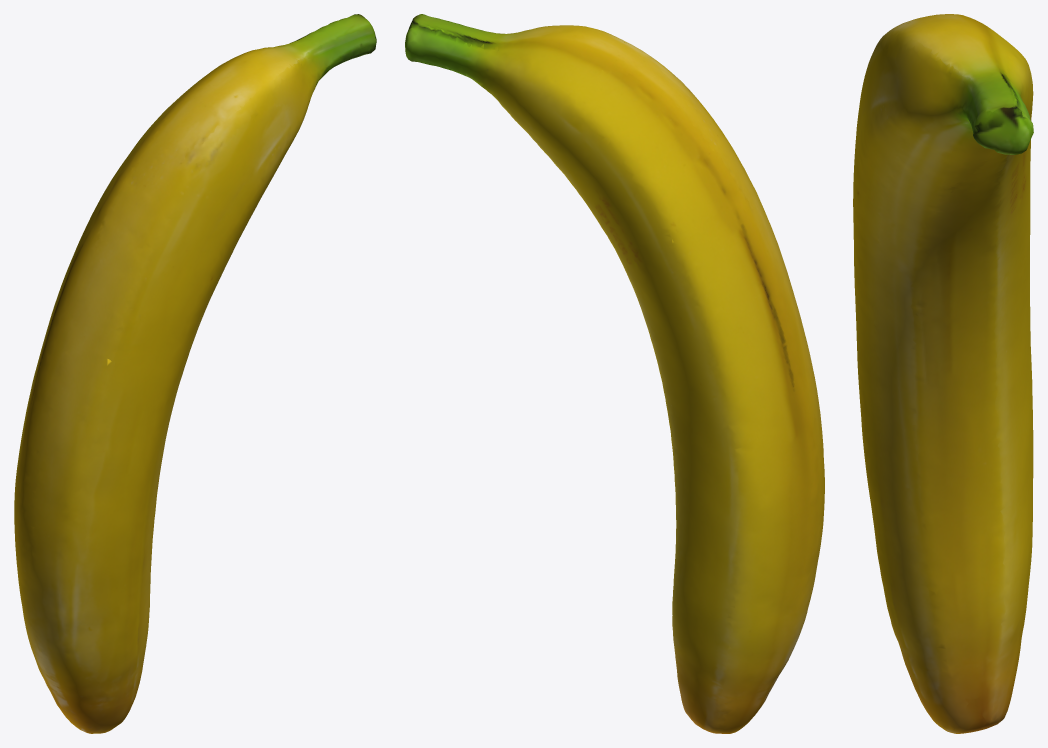
File: Banana.glb
3 views of the same model, side by side, from view 1: azimuth 30°, elevation 25°; view 2: azimuth 150°, elevation 25°; view 3: azimuth 270°, elevation 25° (orthographic). The views are drawn at different scales.
Visible parts, largest first — view 1: textured_simple.001; view 2: textured_simple.001; view 3: textured_simple.001.
Boxes of the visible parts, box(x1,y1,x2,y2) form: textured_simple.001: box(14, 14, 376, 733); textured_simple.001: box(405, 14, 824, 733); textured_simple.001: box(853, 14, 1033, 733).
Bounding box in the file's own units: 0.1089 × 0.1784 × 0.0367.
1 material, 1 textured.
